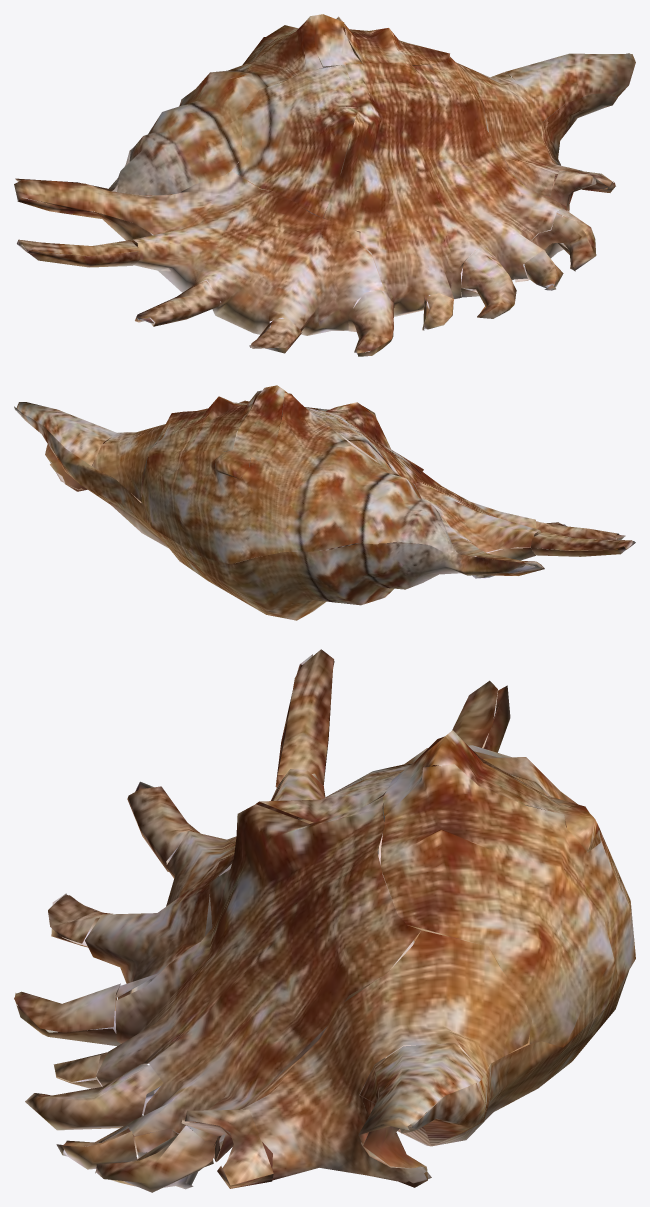
File: sea_shell.glb
The picture shows the model from 3 angles, top to bottom: view 1: azimuth 30°, elevation 25°; view 2: azimuth 150°, elevation 25°; view 3: azimuth 270°, elevation 25°; orthographic projection. The views are drawn at different scales.
Parts seen in each view (by area): view 1: lambis_shell; view 2: lambis_shell; view 3: lambis_shell.
Boxes of the visible parts, <box> form: lambis_shell: <box>14,14,635,356</box>; lambis_shell: <box>14,385,635,620</box>; lambis_shell: <box>14,649,635,1192</box>.
Bounding box in the file's own units: 0.1391 × 0.047 × 0.0745.
Materials: 1 (1 with a texture image).
